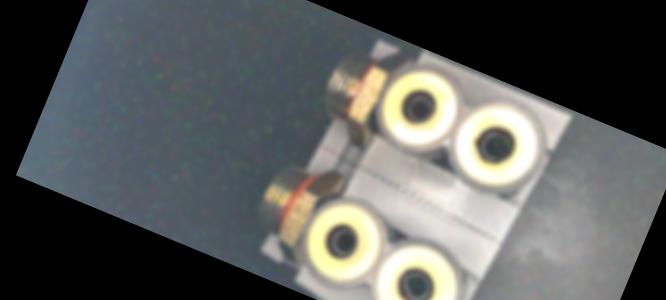off-centered: (468, 120, 520, 169), (392, 262, 439, 300)
